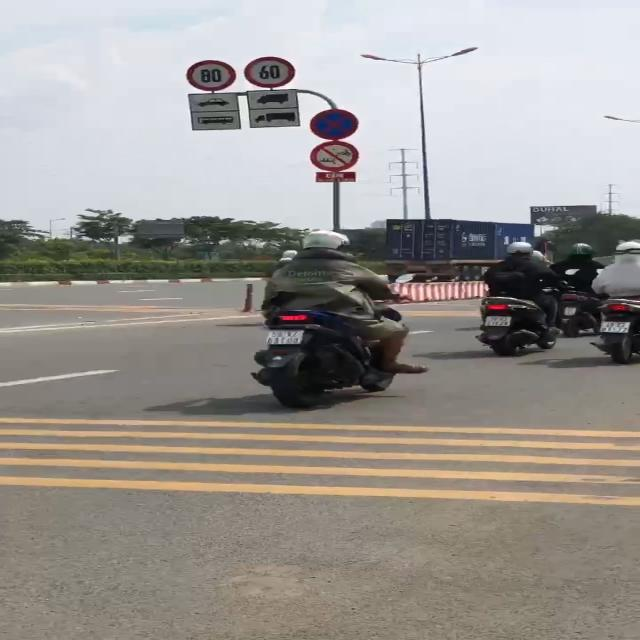Bien bao cam dung xe va do xe: (303, 107, 365, 143)
Bien bao toc do toi da cho phep: (239, 54, 306, 88), (185, 57, 239, 91)
